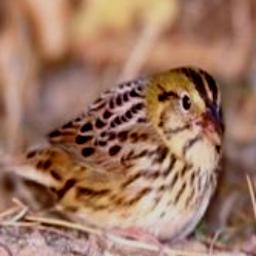Sparrow: (0, 62, 227, 251)
